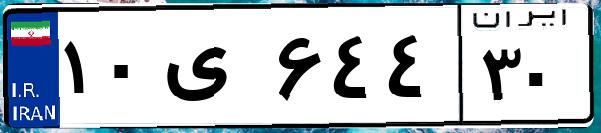0: (525, 38, 570, 115), (110, 28, 158, 98)
1: (57, 26, 110, 100)
3: (475, 38, 525, 113)
4: (385, 28, 445, 110), (330, 28, 385, 110)
6: (270, 28, 330, 110)
ی: (158, 20, 270, 120)
